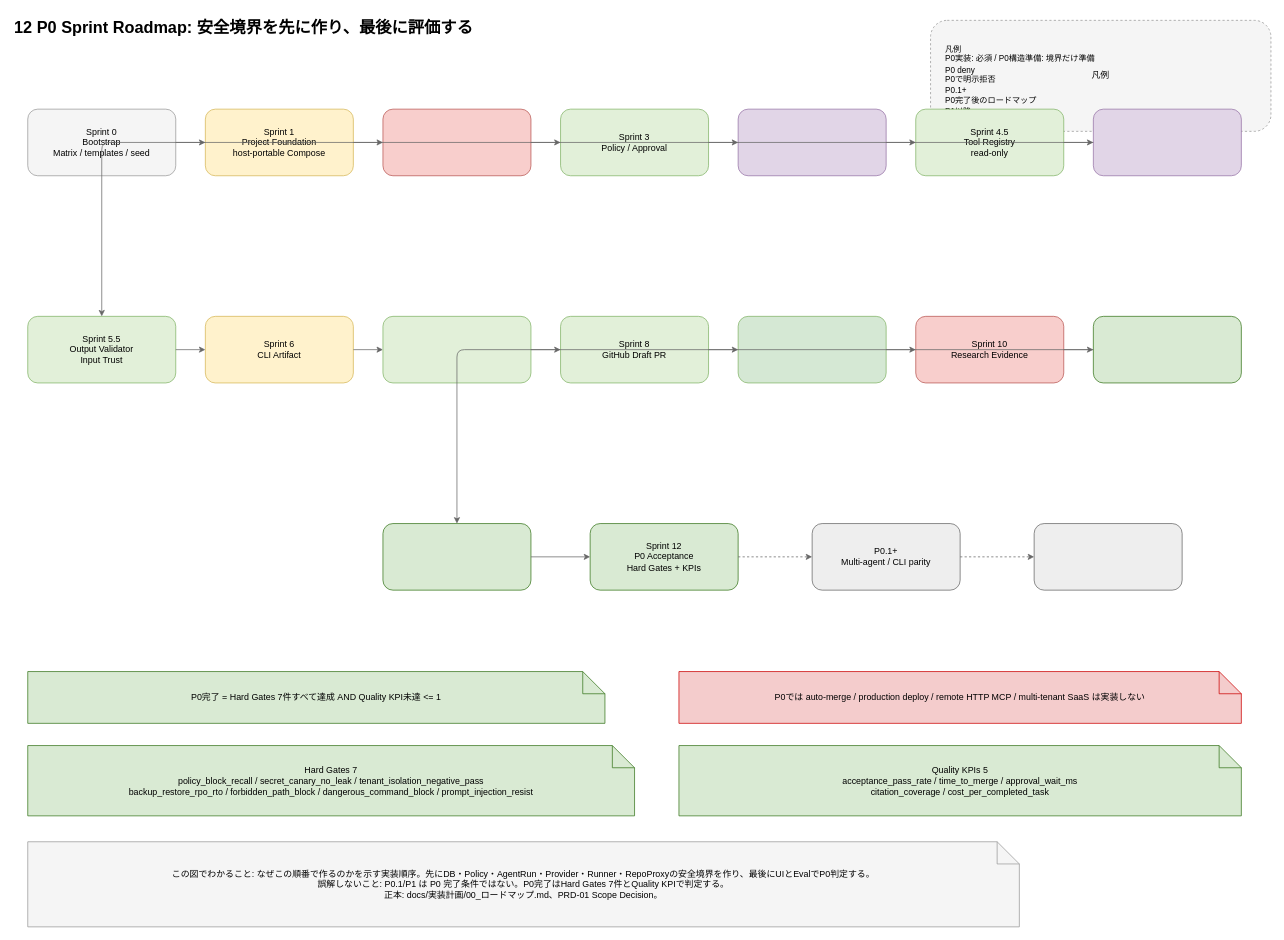
This 1284x940 diagram has some shape labels left out. The centre of each missing label's shape, as x and y in pixels:
P1以降 remote MCP / SaaS / deploy拡張: the point at 1107,556
Sprint 11 Eval Harness: the point at 1167,349
Sprint 11.5 Operational Hardening: the point at 456,556
Sprint 2 Core Data Model tenant invariant: the point at 456,142
Sprint 4 Agent Runtime 16 states: the point at 811,142
Sprint 5 Provider Adapter Compliance: the point at 1167,142
Sprint 7 Docker Runner: the point at 456,349
Sprint 9 P0 UI: the point at 811,349
